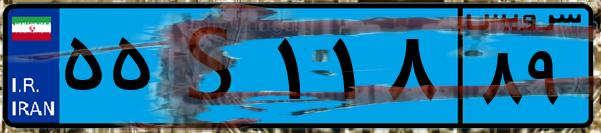1: (270, 28, 330, 110), (330, 28, 385, 110)
5: (57, 26, 110, 100), (110, 28, 158, 98)
8: (385, 28, 445, 110), (475, 38, 525, 113)
9: (525, 38, 570, 115)
S: (158, 12, 270, 120)
